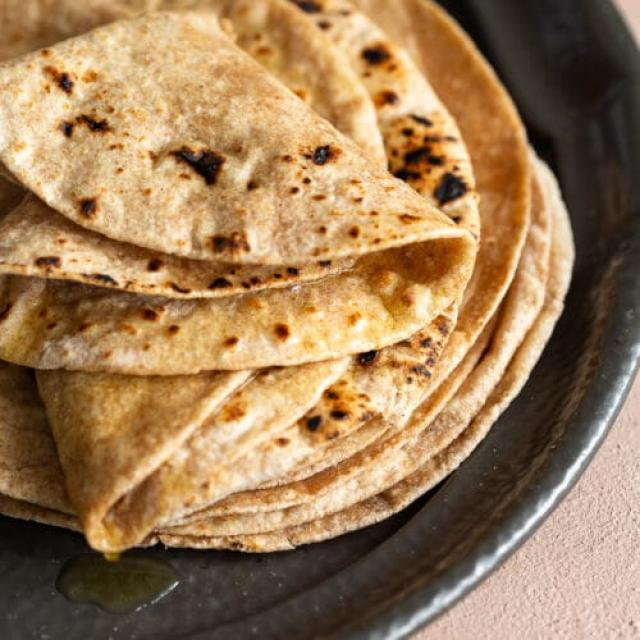chapathi: (0, 9, 489, 383)
